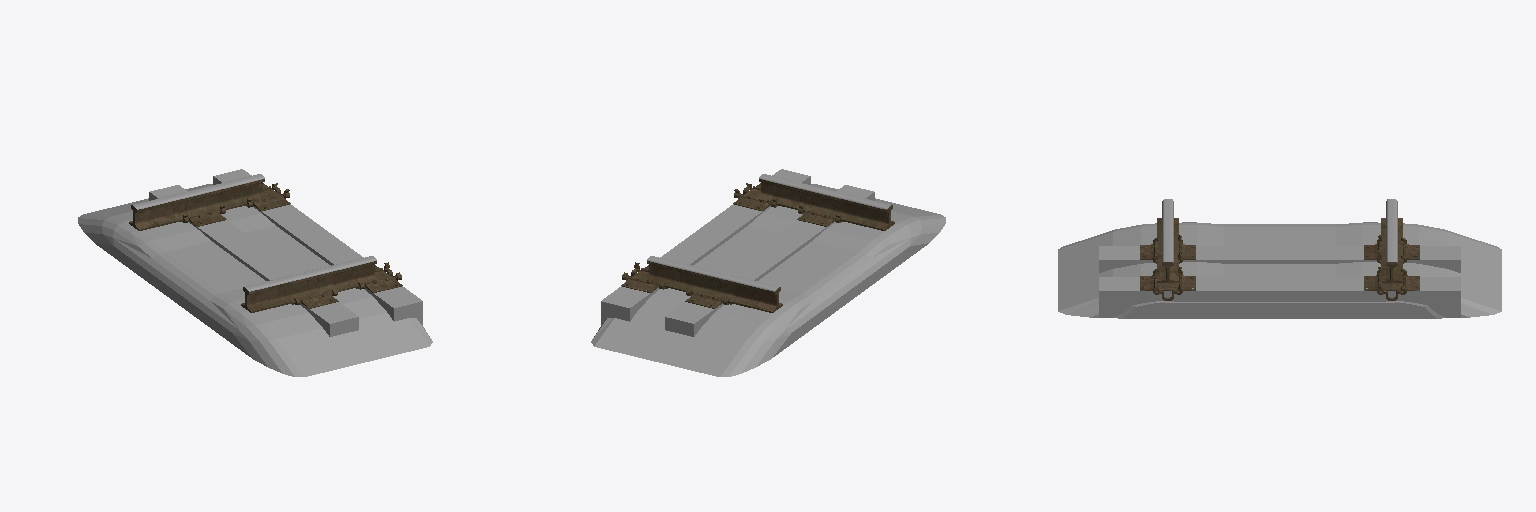
3 views of the same model, side by side, from view 1: azimuth 30°, elevation 25°; view 2: azimuth 150°, elevation 25°; view 3: azimuth 270°, elevation 25° (orthographic).
Visible parts, largest first — view 1: RAIL_BASE.001_Plane.001, RAIL_BASE_Plane, RAIL_LEFT_Cube.002, RAIL_RIGHT_Cube.010; view 2: RAIL_BASE.001_Plane.001, RAIL_BASE_Plane, RAIL_RIGHT_Cube.010, RAIL_LEFT_Cube.002; view 3: RAIL_BASE.001_Plane.001, RAIL_BASE_Plane, RAIL_LEFT_Cube.002, RAIL_RIGHT_Cube.010.
Boxes of the visible parts, <box> form: RAIL_BASE.001_Plane.001: <box>78,184,432,376</box>; RAIL_BASE_Plane: <box>149,169,422,336</box>; RAIL_LEFT_Cube.002: <box>241,256,379,312</box>; RAIL_RIGHT_Cube.010: <box>129,174,267,230</box>; RAIL_BASE.001_Plane.001: <box>591,184,945,376</box>; RAIL_BASE_Plane: <box>601,169,874,336</box>; RAIL_RIGHT_Cube.010: <box>644,256,782,312</box>; RAIL_LEFT_Cube.002: <box>756,174,894,230</box>; RAIL_BASE.001_Plane.001: <box>1058,222,1501,318</box>; RAIL_BASE_Plane: <box>1099,235,1460,317</box>; RAIL_LEFT_Cube.002: <box>1157,199,1178,282</box>; RAIL_RIGHT_Cube.010: <box>1381,199,1402,282</box>.
Size of the model in its own units: 1.29 by 0.3683 by 3.
5 materials, 1 textured.